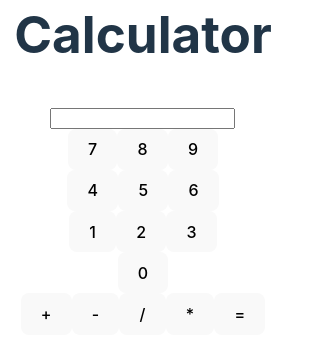
calculator › should user input after clicking numbers and operations
Click the button "1".
click(93, 232)  # box [69, 211, 116, 252]
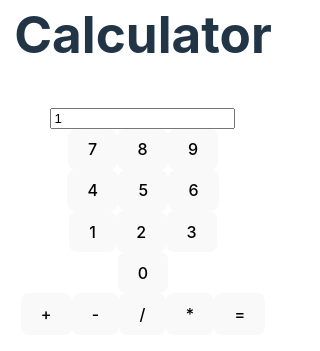
Click the button "+".
click(46, 314)  # box [20, 293, 72, 335]
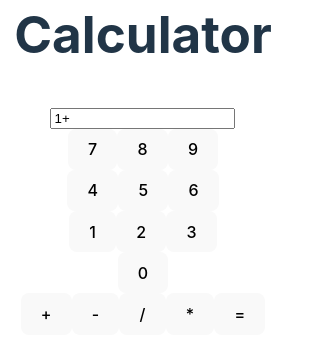
Click the button "1".
click(93, 232)  # box [69, 211, 116, 252]
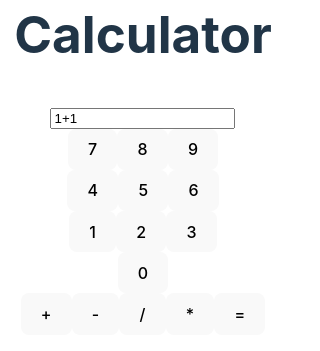
Expected: the field holds "1+1", [50, 108, 236, 129]
